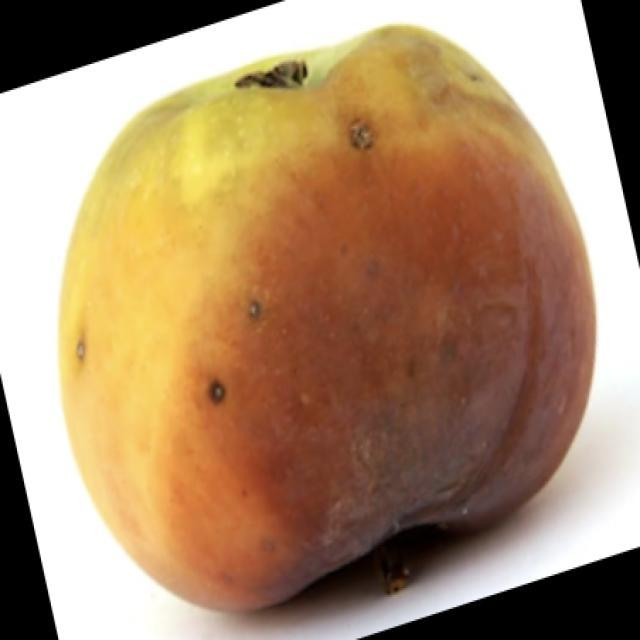Rotten: (55, 24, 593, 618)
